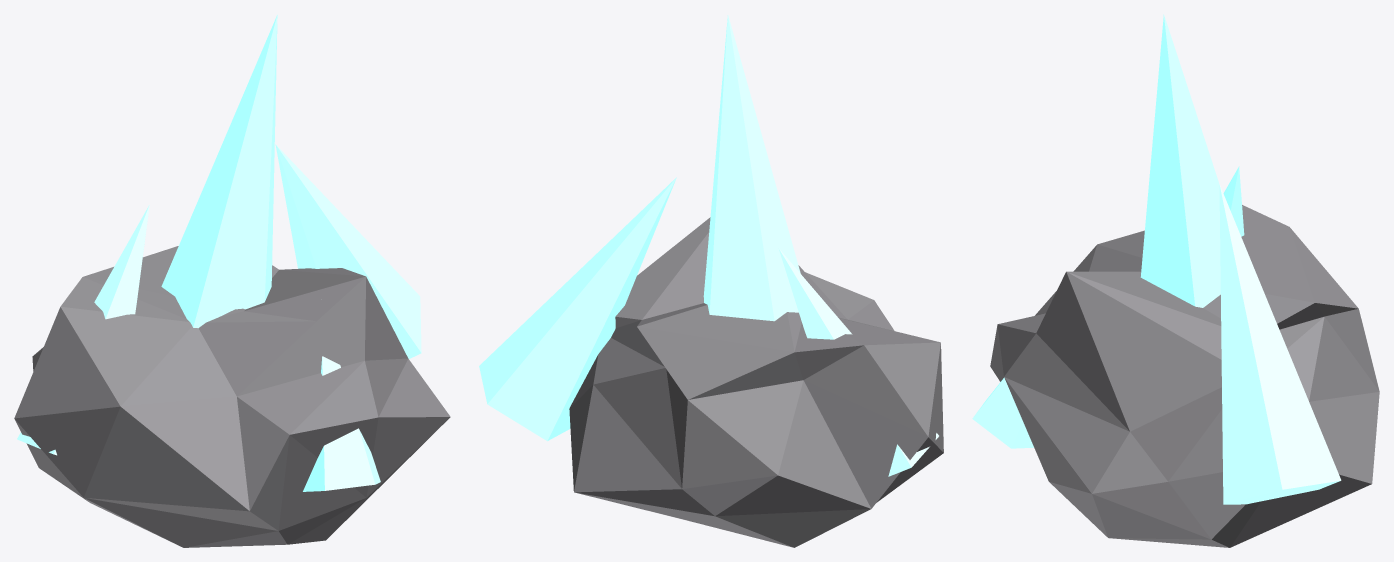
The model's file is crystal_cluster_blue.glb.
3 views of the same model, side by side, from view 1: azimuth 30°, elevation 25°; view 2: azimuth 150°, elevation 25°; view 3: azimuth 270°, elevation 25° (orthographic). The views are drawn at different scales.
Visible parts, largest first — view 1: crystal_cluster_blue_04, crystal_cluster_blue_00, crystal_cluster_blue_01, crystal_cluster_blue_03, crystal_cluster_blue_02; view 2: crystal_cluster_blue_04, crystal_cluster_blue_01, crystal_cluster_blue_00, crystal_cluster_blue_02; view 3: crystal_cluster_blue_04, crystal_cluster_blue_01, crystal_cluster_blue_00, crystal_cluster_blue_03, crystal_cluster_blue_02.
Part boxes in pixels (x1,y1,x2,y2): crystal_cluster_blue_04: (14, 246, 450, 547); crystal_cluster_blue_00: (161, 14, 277, 328); crystal_cluster_blue_01: (275, 144, 421, 358); crystal_cluster_blue_03: (303, 356, 380, 491); crystal_cluster_blue_02: (17, 205, 149, 455); crystal_cluster_blue_04: (569, 217, 943, 547); crystal_cluster_blue_01: (479, 177, 676, 441); crystal_cluster_blue_00: (703, 15, 800, 321); crystal_cluster_blue_02: (778, 248, 938, 476); crystal_cluster_blue_04: (990, 205, 1379, 547); crystal_cluster_blue_01: (1219, 185, 1341, 504); crystal_cluster_blue_00: (1140, 14, 1220, 307); crystal_cluster_blue_03: (972, 377, 1033, 448); crystal_cluster_blue_02: (1223, 166, 1244, 236).
Bounding box in the file's own units: 0.803 × 0.9218 × 0.6429.
